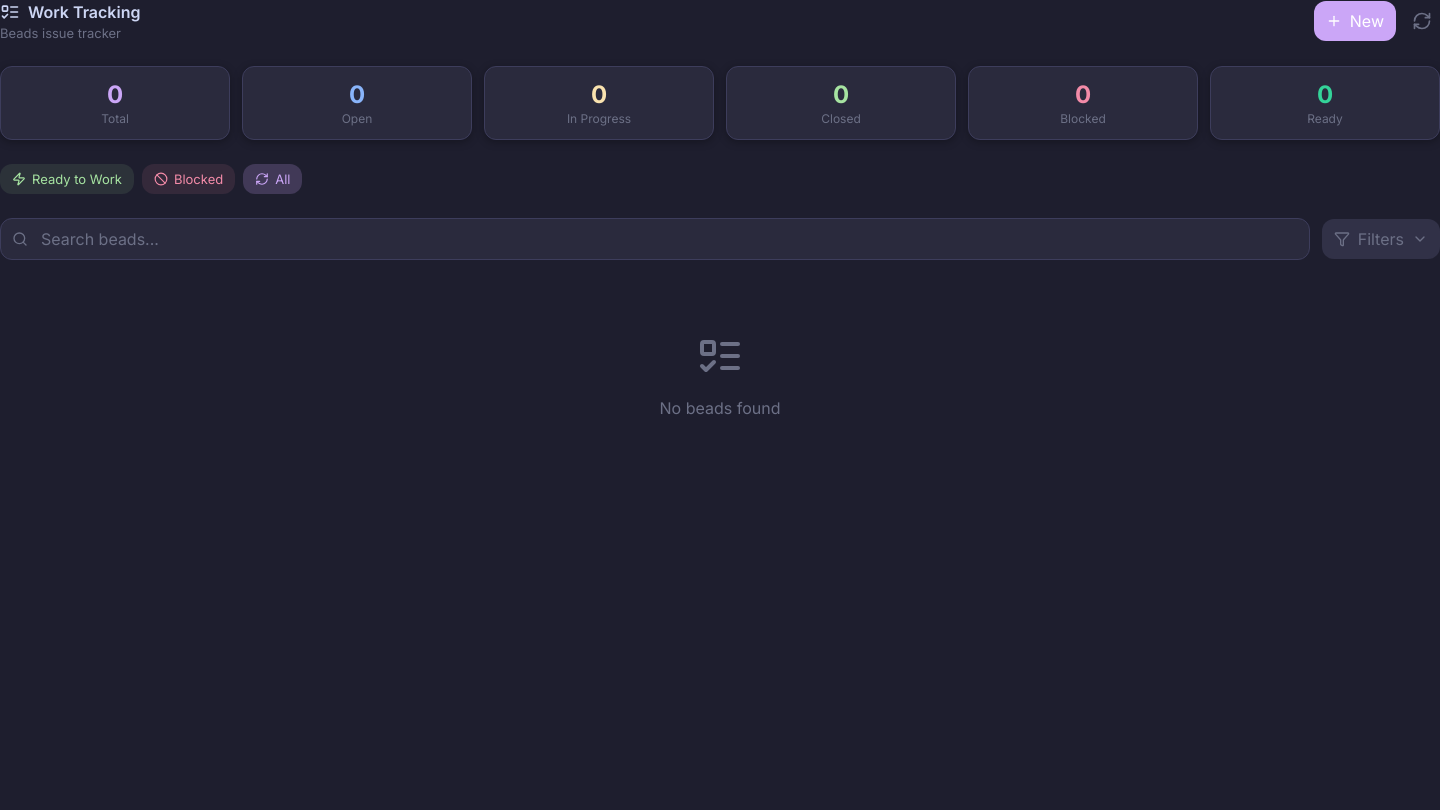
Test: BeadsPanel › closes create modal on cancel
The image size is (1440, 810).
Note: Open modal
What coordinates should you click on to do the following:
click the button "New"
I would click on:
 (1355, 21)
Its box is [1314,1,1396,41].
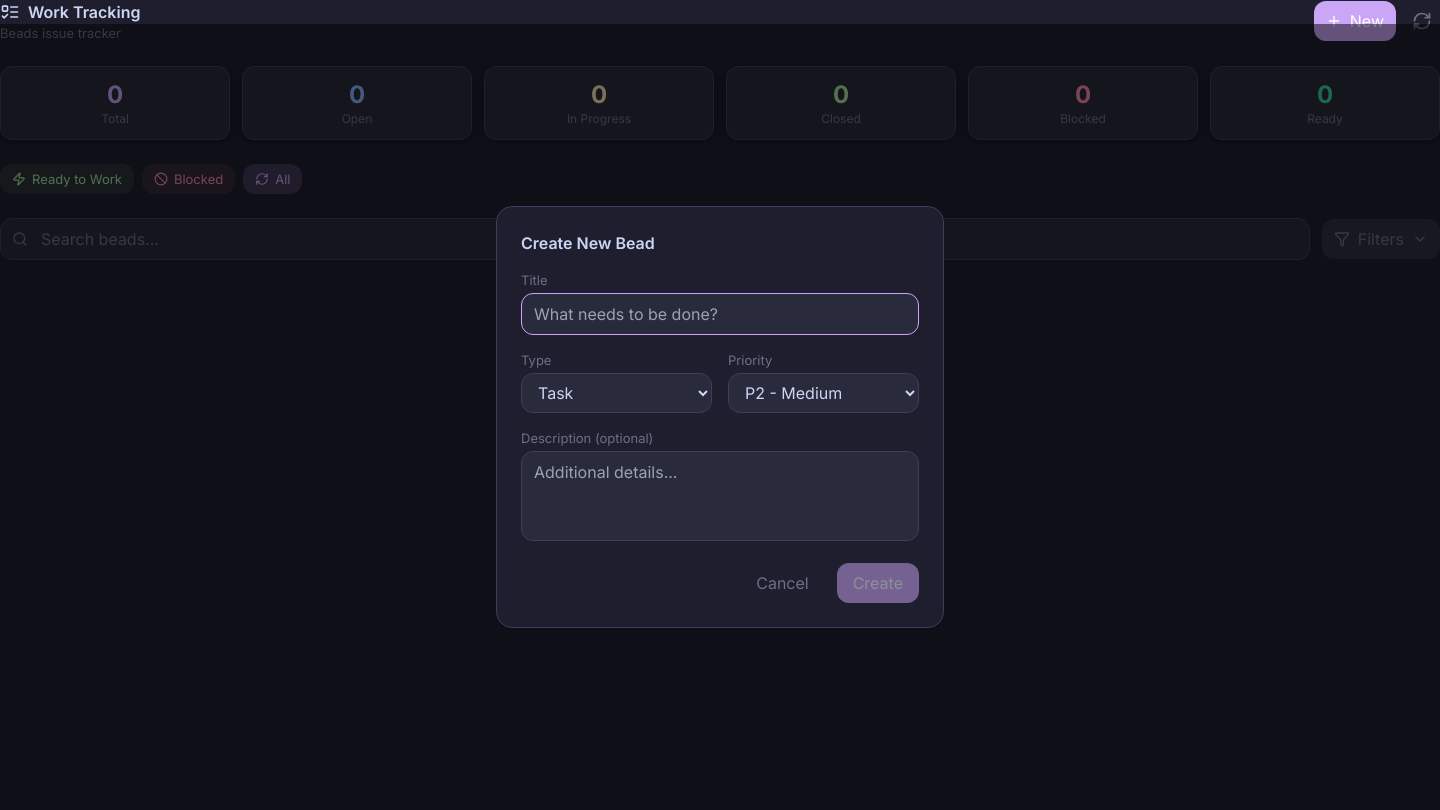
Result: the heading "Create New Bead" is shown at [521,233,655,253]
What coordinates should you click on to do the following:
click the button "Cancel"
I would click on:
 (782, 583)
Its box is [740,563,825,603].
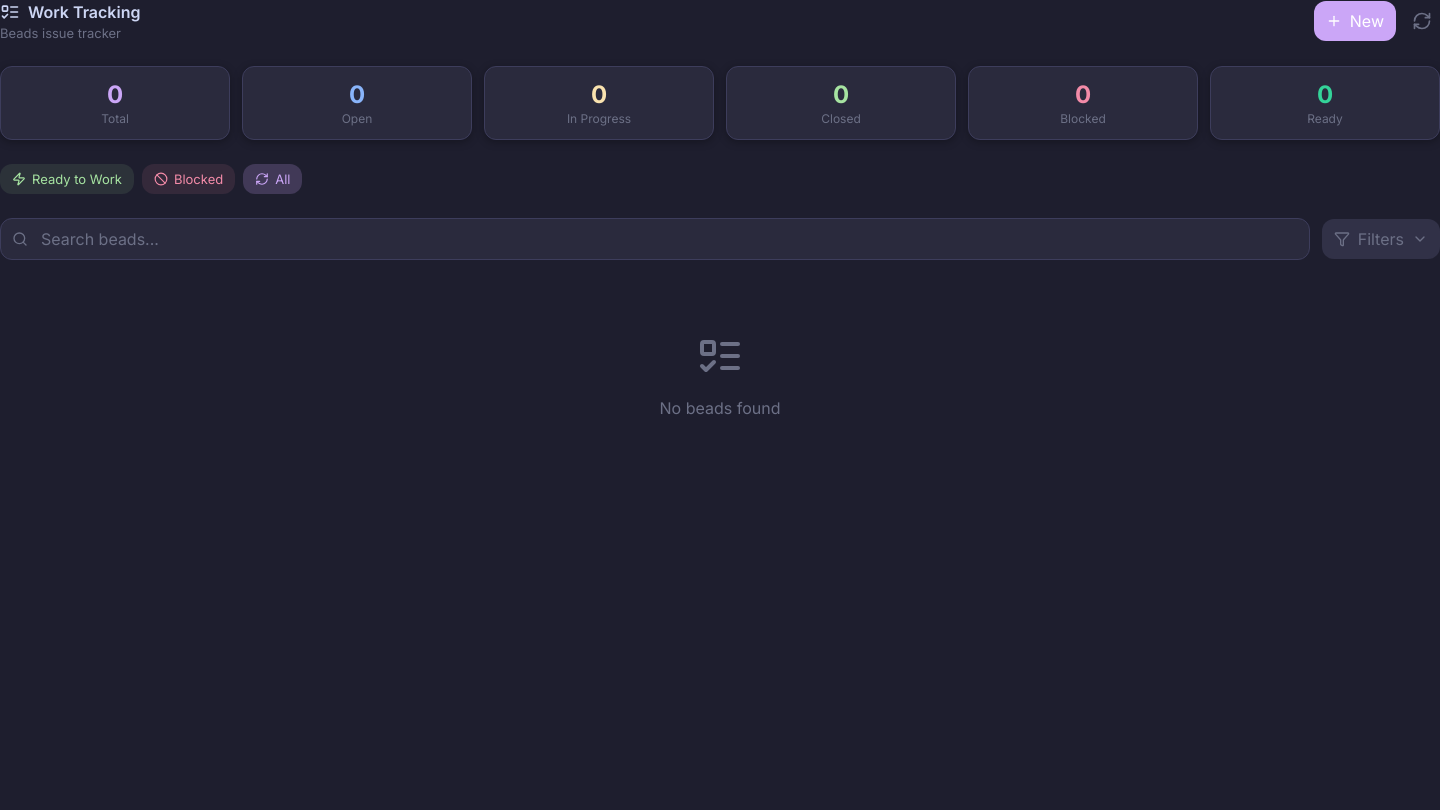
Result: the heading "Create New Bead" is gone
